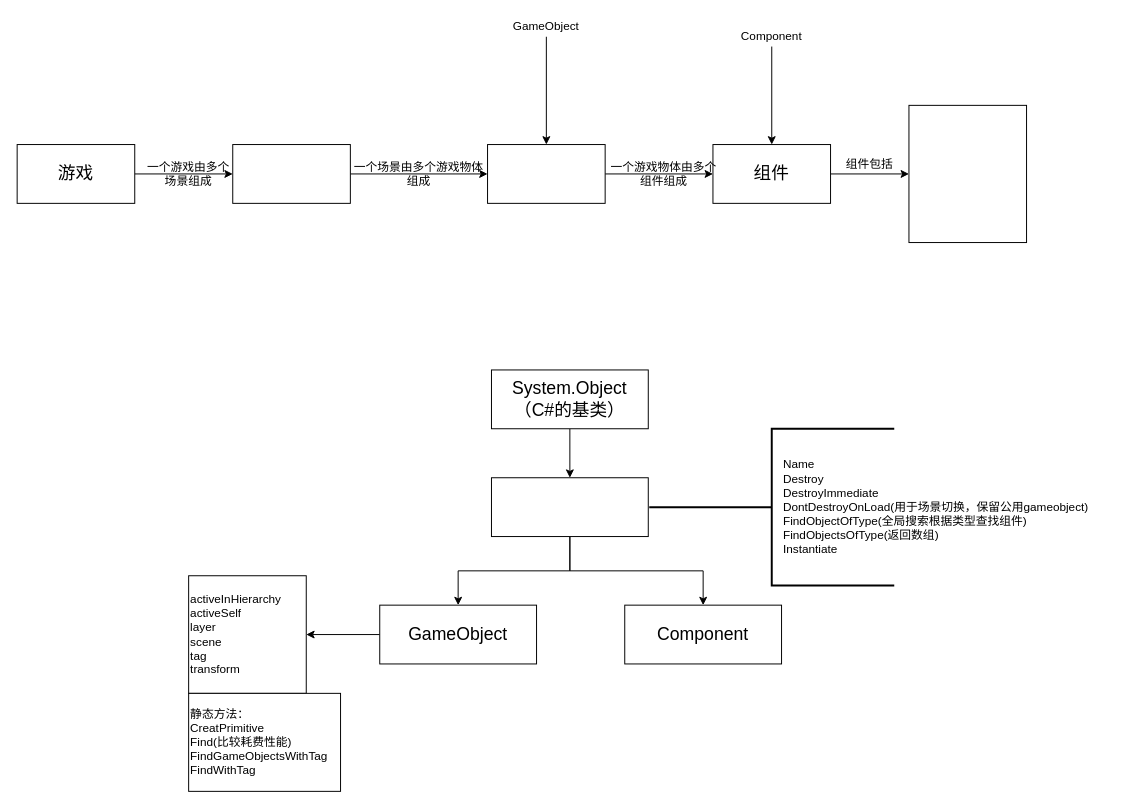
Image size: 1142x809. Some labels were removed from this diagram. The shapes that lost their labels are listed below. From the top down, each one's centre as x and y in pixels, then its label:
At (x=291, y=173): "场景".
At (x=546, y=173): "游戏物体".
At (x=967, y=173): "Transform Rigidboy Mesh Render MeshFiliter Collider NavmeshAgent Animator 自定义脚本".
At (x=569, y=507): "UnityEngine.object (Unity的基类)".
